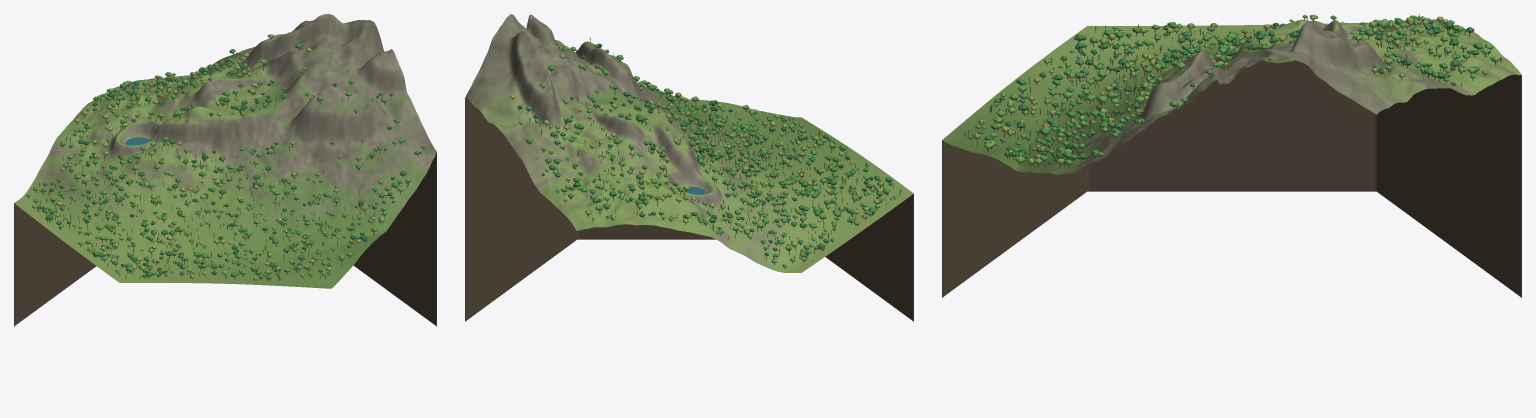
The picture shows the model from 3 angles, left to right: view 1: azimuth 30°, elevation 25°; view 2: azimuth 150°, elevation 25°; view 3: azimuth 270°, elevation 25°; orthographic projection. The views are drawn at different scales.
Visible parts, largest first — view 1: terrain, broadleaf_canopy, hex_side_cut, trunks, conifer_canopy; view 2: terrain, hex_side_cut, broadleaf_canopy, trunks, conifer_canopy; view 3: hex_side_cut, terrain, broadleaf_canopy, trunks, conifer_canopy.
Boxes of the visible parts, x1,y1,x2,y2 form: terrain: [14, 14, 436, 288]; broadleaf_canopy: [26, 34, 425, 280]; hex_side_cut: [14, 152, 436, 326]; trunks: [28, 38, 426, 281]; conifer_canopy: [37, 50, 426, 278]; terrain: [465, 14, 913, 272]; hex_side_cut: [465, 98, 913, 321]; broadleaf_canopy: [510, 43, 896, 267]; trunks: [512, 38, 900, 268]; conifer_canopy: [517, 37, 901, 259]; hex_side_cut: [942, 60, 1521, 297]; terrain: [942, 19, 1521, 174]; broadleaf_canopy: [968, 14, 1499, 164]; trunks: [965, 15, 1501, 168]; conifer_canopy: [964, 14, 1501, 164].
Size of the model in its own units: 4330 by 3413 by 5000.
Materials: 7 (1 with a texture image).
